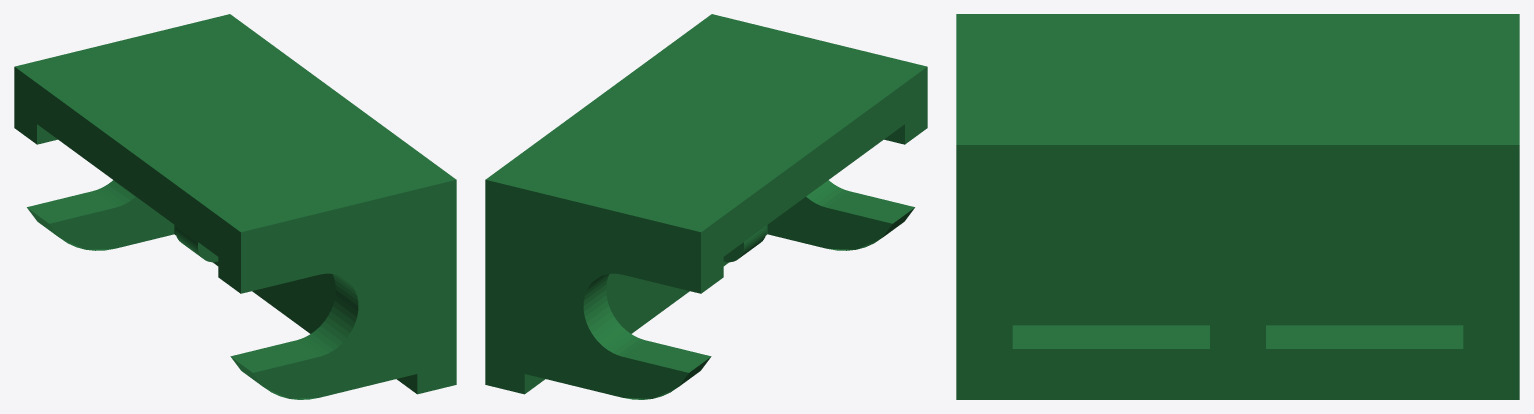
3 views of the same model, side by side, from view 1: azimuth 30°, elevation 25°; view 2: azimuth 150°, elevation 25°; view 3: azimuth 270°, elevation 25° (orthographic). The views are drawn at different scales.
Visible parts, largest first — view 1: mesh_15, rect_1, _2_4cyli_1, _2_4ndis, _2_4cyli_2; view 2: mesh_15, rect_1, _2_4cyli_2, _2_4ndis_3, _2_4cyli_1; view 3: mesh_15, box5, box5_1.
Boxes of the visible parts, x1,y1,x2,y2 form: mesh_15: (14,14,456,398); rect_1: (174,225,335,333); _2_4cyli_1: (297,274,358,356); _2_4ndis: (321,265,358,356); _2_4cyli_2: (93,180,135,207); mesh_15: (485,14,927,398); rect_1: (606,225,767,333); _2_4cyli_2: (583,274,644,356); _2_4ndis_3: (583,265,620,356); _2_4cyli_1: (806,180,848,207); mesh_15: (956,14,1519,399); box5: (1012,196,1209,348); box5_1: (1266,196,1463,348).
Bounding box in the file's own units: 22 × 20 × 40.
